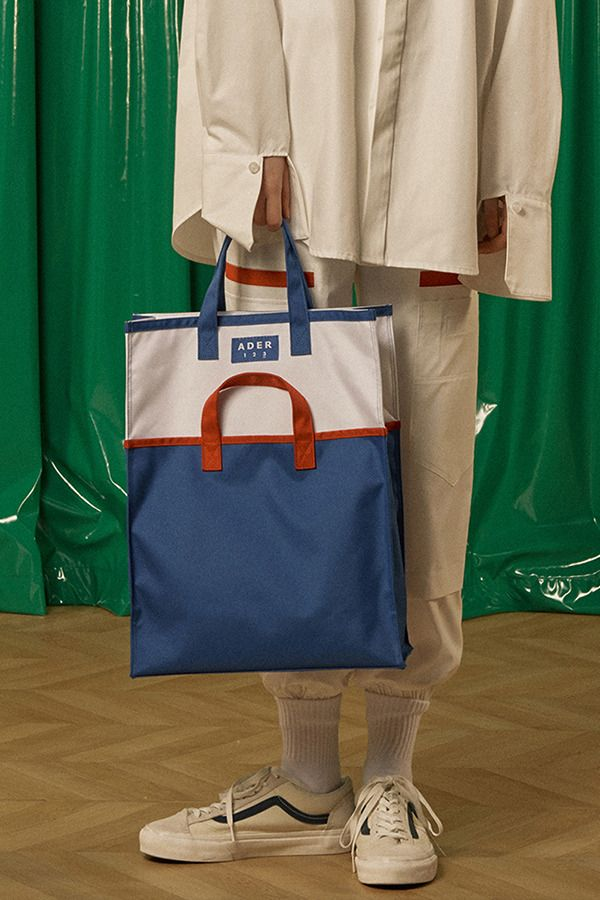nylon: (124, 215, 415, 687)
